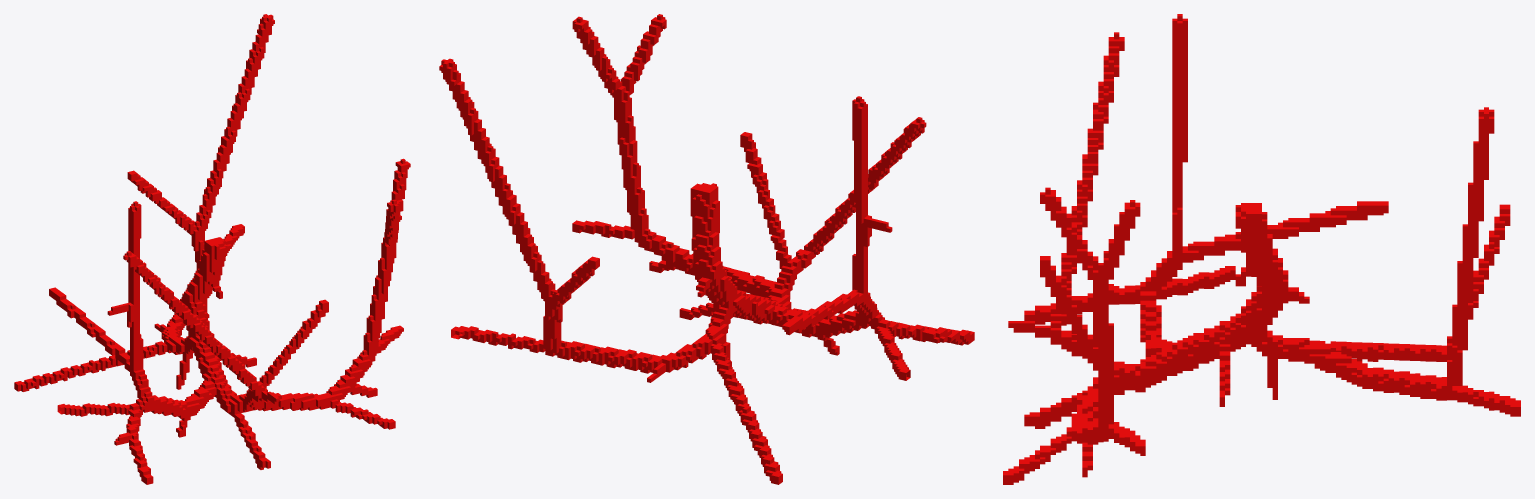
File: ref.obj
The picture shows the model from 3 angles, left to right: view 1: azimuth 30°, elevation 25°; view 2: azimuth 150°, elevation 25°; view 3: azimuth 270°, elevation 25°; orthographic projection. The views are drawn at different scales.
Parts seen in each view (by area): view 1: anObject; view 2: anObject; view 3: anObject.
Boxes of the visible parts, <box> form: anObject: <box>14,14,410,484</box>; anObject: <box>439,14,974,484</box>; anObject: <box>1003,14,1520,484</box>.
Size of the model in its own units: 99 by 90 by 98.
